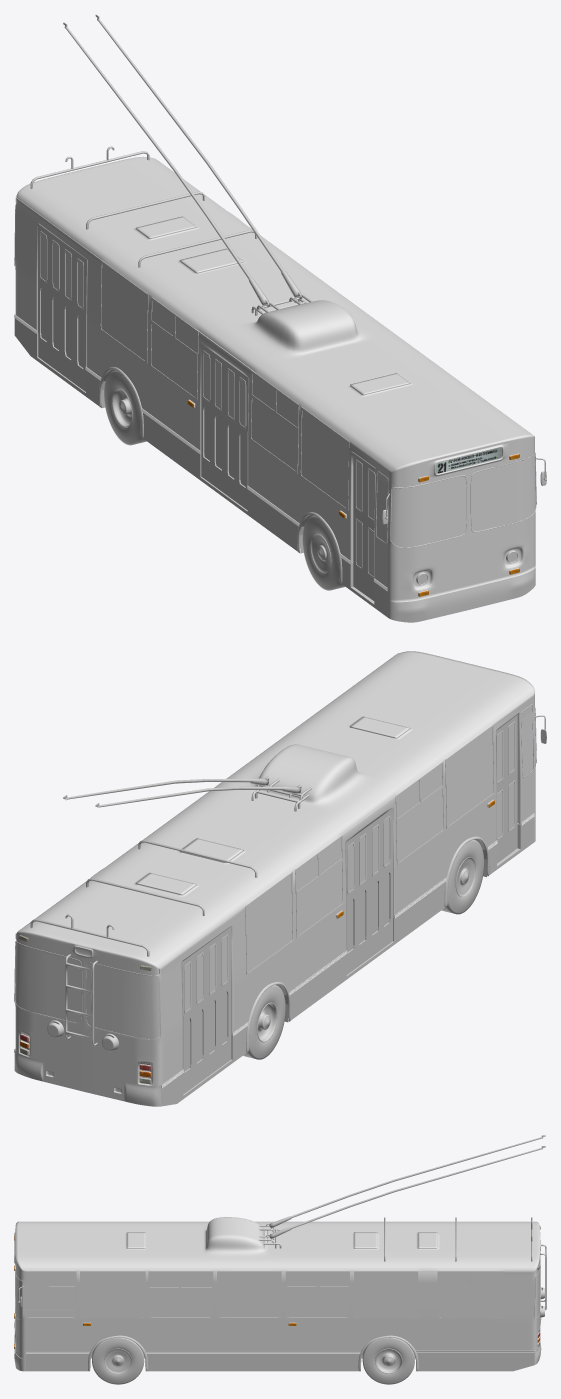
The model's file is ЗИУ-9.fbx.
The picture shows the model from 3 angles, top to bottom: view 1: azimuth 30°, elevation 25°; view 2: azimuth 150°, elevation 25°; view 3: azimuth 270°, elevation 25°; orthographic projection. The views are drawn at different scales.
Parts seen in each view (by area): view 1: Plane, Plane.005, Plane.014, Plane.008, Cylinder.001, Plane.001, Plane.004, Cylinder.003, Plane.003, Plane.013, Cylinder.004, Plane.012 (+2 smaller); view 2: Plane, Plane.005, Plane.014, Plane.008, Cylinder.001, Plane.001, Plane.010, Cylinder.003, Plane.003, Plane.013, Cylinder.004, Plane.012 (+1 smaller); view 3: Plane, Plane.005, Plane.001, Plane.008, Plane.003, Cylinder.003, Cylinder.001, Plane.002, Cylinder.004, Plane.012.
Boxes of the visible parts, bbox=[...] form: Plane: bbox=[15, 156, 546, 602]; Plane.005: bbox=[40, 233, 535, 576]; Plane.014: bbox=[38, 224, 248, 509]; Plane.008: bbox=[14, 203, 536, 577]; Cylinder.001: bbox=[30, 19, 546, 519]; Plane.001: bbox=[14, 318, 387, 617]; Plane.004: bbox=[387, 567, 535, 622]; Cylinder.003: bbox=[104, 370, 345, 590]; Plane.003: bbox=[86, 372, 292, 544]; Plane.013: bbox=[353, 453, 375, 600]; Cylinder.004: bbox=[112, 388, 331, 573]; Plane.012: bbox=[99, 367, 342, 583]; Plane: bbox=[15, 651, 546, 1086]; Plane.005: bbox=[15, 705, 533, 1039]; Plane.014: bbox=[182, 808, 392, 1094]; Plane.008: bbox=[14, 704, 536, 1040]; Cylinder.001: bbox=[30, 715, 545, 1046]; Plane.001: bbox=[161, 817, 534, 1106]; Plane.010: bbox=[14, 1050, 160, 1106]; Cylinder.003: bbox=[243, 840, 484, 1059]; Plane.003: bbox=[232, 888, 438, 1059]; Plane.013: bbox=[496, 715, 517, 863]; Cylinder.004: bbox=[257, 857, 476, 1042]; Plane.012: bbox=[246, 836, 489, 1052]; Plane: bbox=[14, 1217, 540, 1359]; Plane.005: bbox=[15, 1268, 540, 1319]; Plane.001: bbox=[26, 1353, 534, 1371]; Plane.008: bbox=[15, 1251, 540, 1319]; Plane.003: bbox=[41, 1354, 499, 1369]; Cylinder.003: bbox=[92, 1337, 414, 1384]; Cylinder.001: bbox=[18, 1137, 546, 1310]; Plane.002: bbox=[26, 1350, 534, 1353]; Cylinder.004: bbox=[104, 1348, 402, 1373]; Plane.012: bbox=[88, 1335, 418, 1371].
Size of the model in its own units: 86.8 by 162 by 357.
